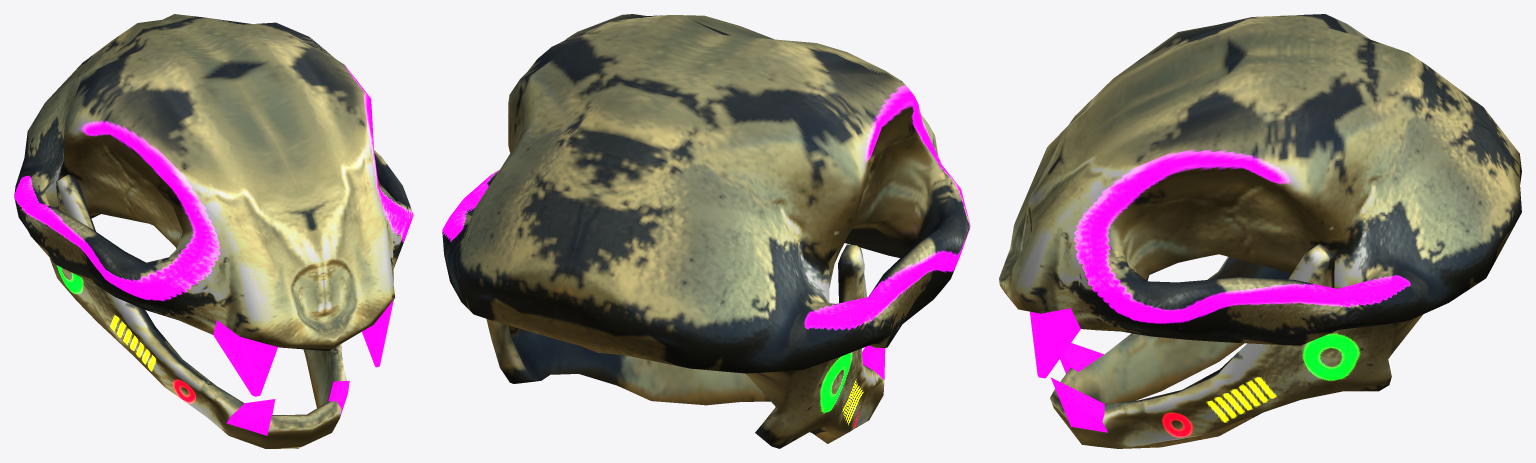
Rendered from cheetah.glb.
3 renders of one model, left to right at view 1: azimuth 30°, elevation 25°; view 2: azimuth 150°, elevation 25°; view 3: azimuth 270°, elevation 25°, orthographic. The views are drawn at different scales.
Parts seen in each view (by area): view 1: cheetah_lowpoly_DCL; view 2: cheetah_lowpoly_DCL; view 3: cheetah_lowpoly_DCL.
Part boxes in pixels (x1,y1,x2,y2): cheetah_lowpoly_DCL: (14, 14, 413, 448); cheetah_lowpoly_DCL: (442, 14, 970, 448); cheetah_lowpoly_DCL: (999, 14, 1521, 448).
Size of the model in its own units: 0.4346 by 0.4454 by 0.5427.
Materials: 1 (1 with a texture image).
